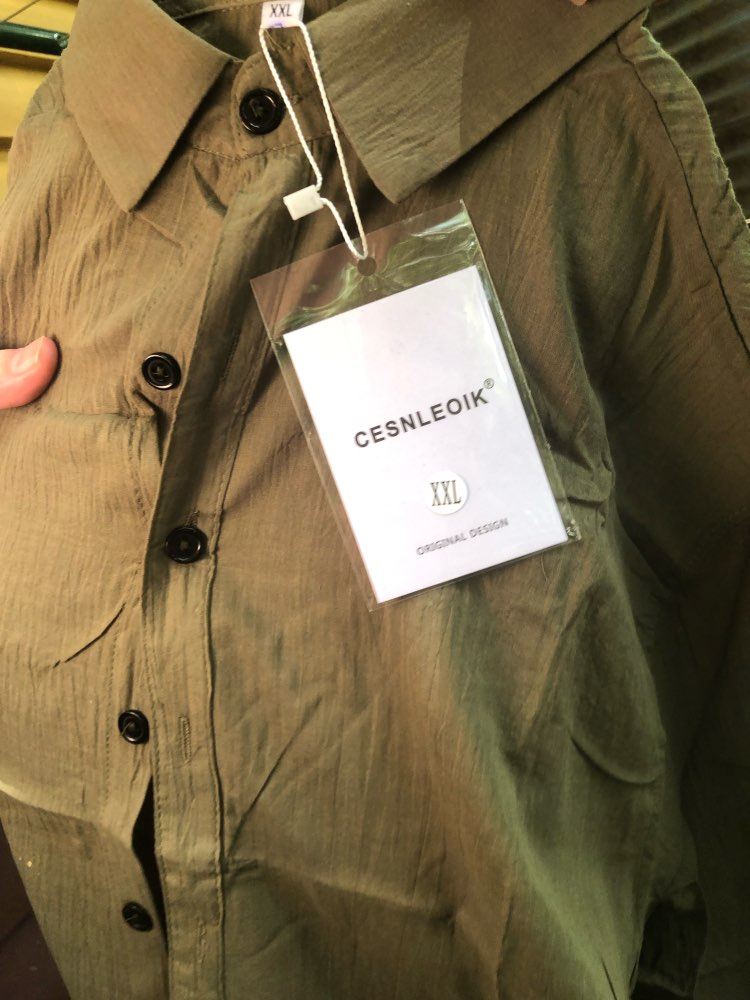shirts: (2, 3, 750, 954)
